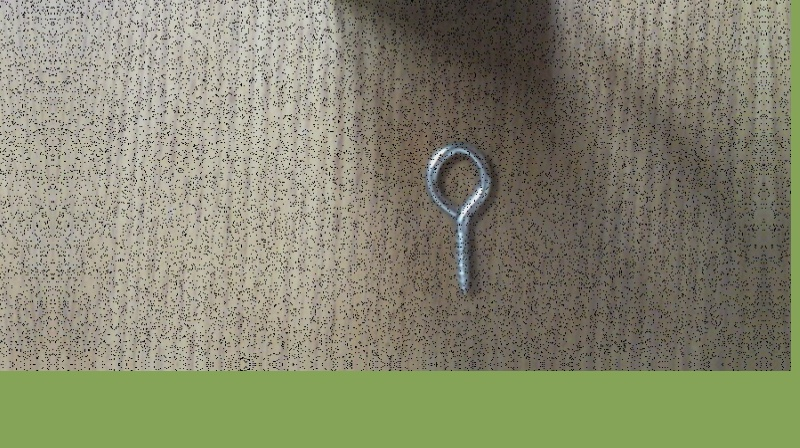O001: (422, 139, 493, 295)
